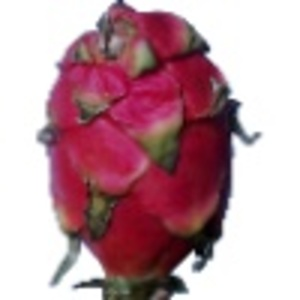pitaia: (39, 1, 262, 300)
